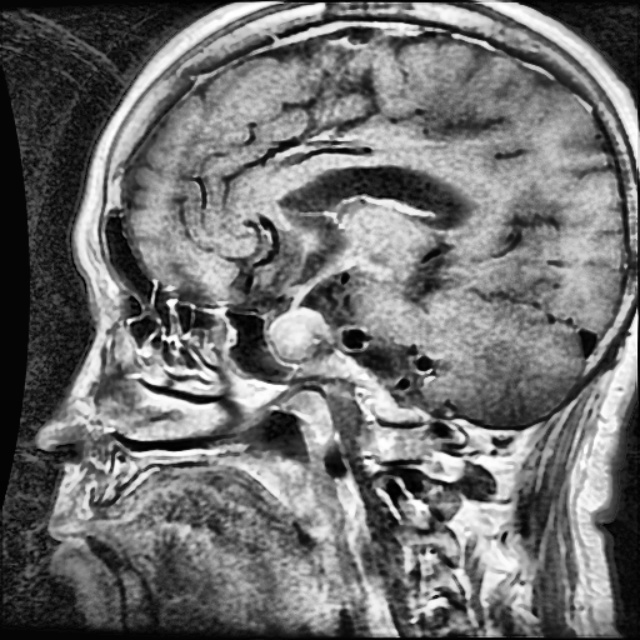Pituitary: (269, 307, 333, 363)
